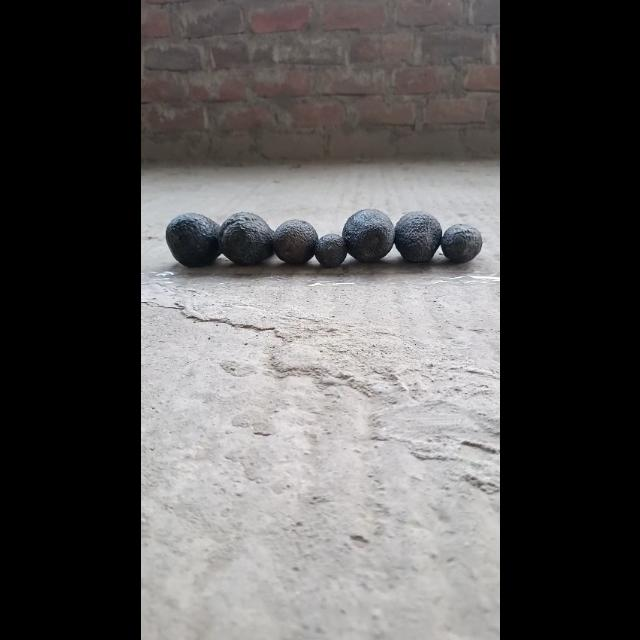Primera: (162, 212, 220, 266), (217, 211, 273, 265), (342, 208, 394, 262), (392, 210, 442, 262)
Segunda: (271, 218, 317, 264), (438, 222, 482, 264)
Tercera: (313, 232, 345, 268)
